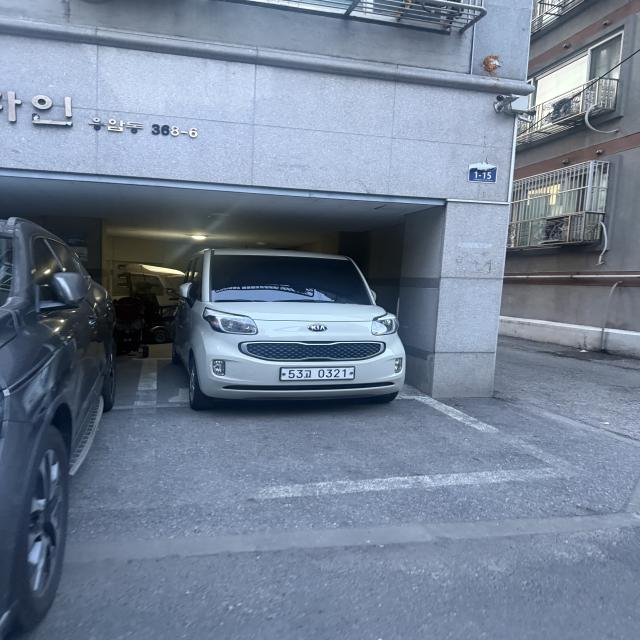car: (160, 236, 430, 434)
